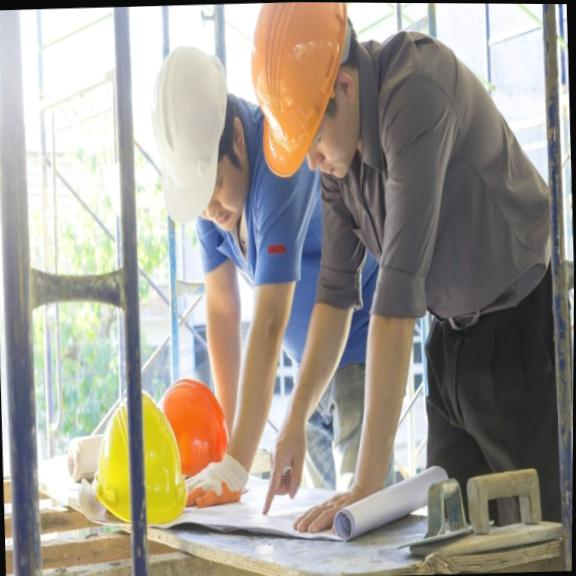no_safety_vest: (355, 32, 556, 381), (357, 42, 542, 323), (217, 155, 346, 358)
